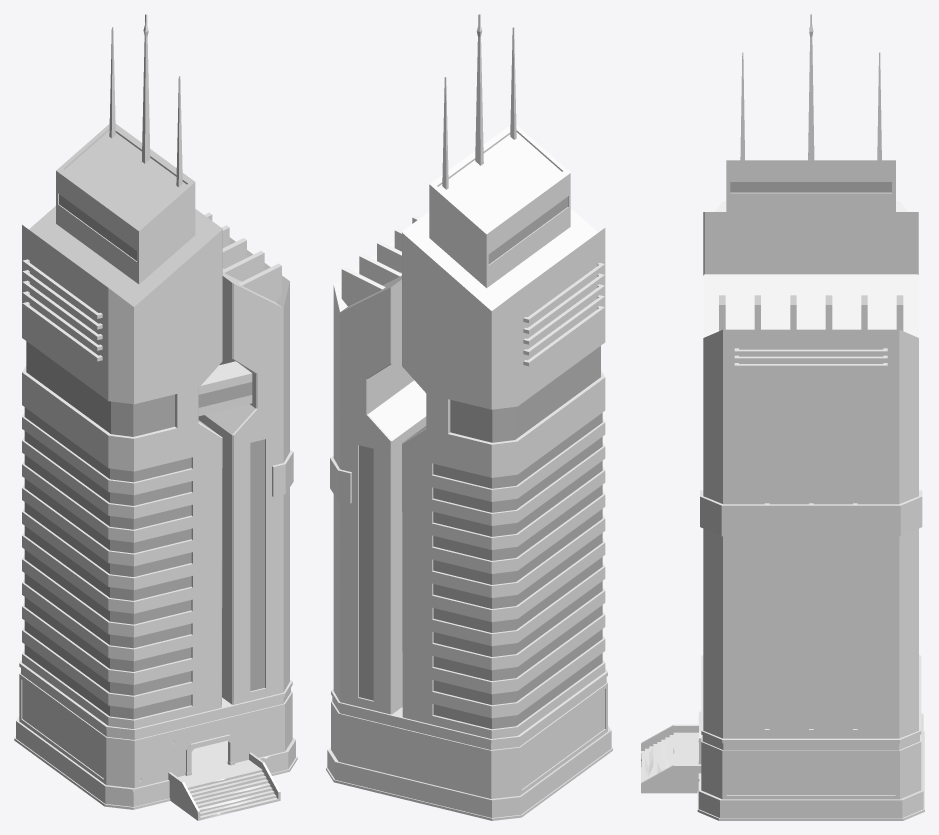
File: SM_BigBuilding_01.fbx
The picture shows the model from 3 angles, left to right: view 1: azimuth 30°, elevation 25°; view 2: azimuth 150°, elevation 25°; view 3: azimuth 270°, elevation 25°; orthographic projection. The views are drawn at different scales.
Parts seen in each view (by area): view 1: SM_BigBuilding_01; view 2: SM_BigBuilding_01; view 3: SM_BigBuilding_01.
Boxes of the visible parts, x1,y1,x2,y2 form: SM_BigBuilding_01: [14, 14, 297, 820]; SM_BigBuilding_01: [326, 14, 612, 820]; SM_BigBuilding_01: [641, 14, 924, 820].
Bounding box in the file's own units: 2020 × 7387 × 2521.
